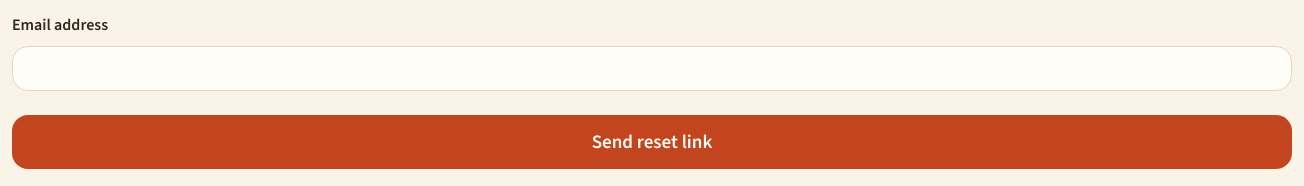
it: ForgotPasswordForm › shows the same neutral confirmation on success
Step 1. Type "parent@example.com" into the field labelled "Email address" → point(652, 68), box 12,46 -> 1292,91
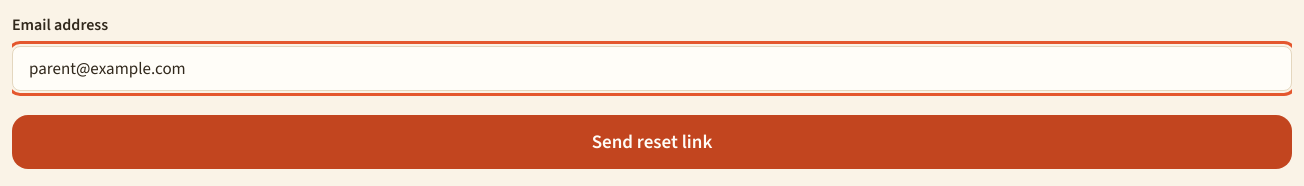
Step 2. Click the button "Send reset link" → point(652, 142), box 12,115 -> 1292,169
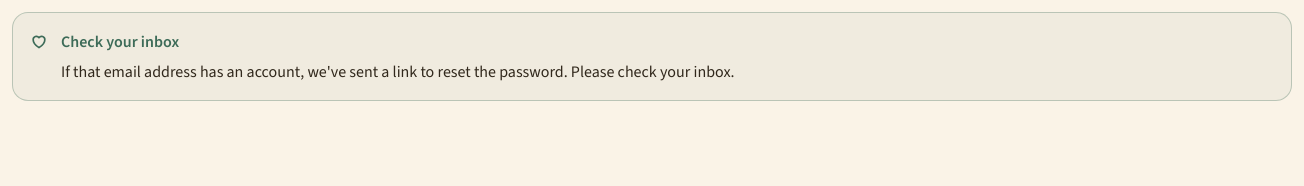
expect the text "If that email address has an account" is shown: met, box 61,61 -> 734,82
